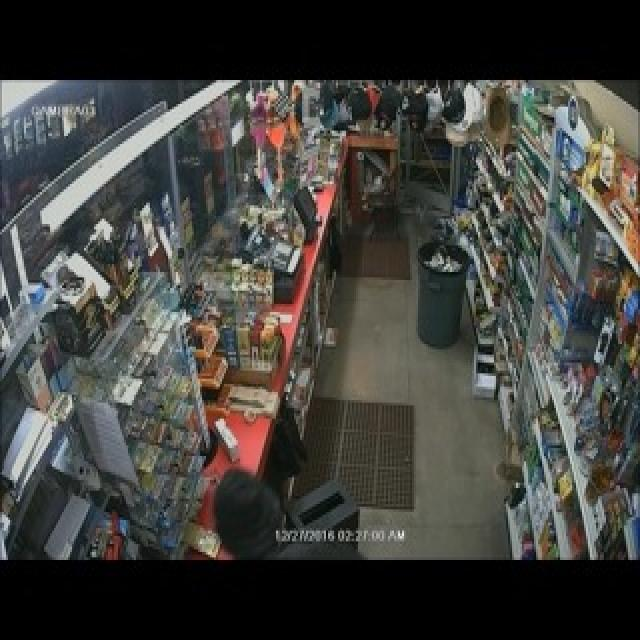thief: (192, 440, 315, 566)
